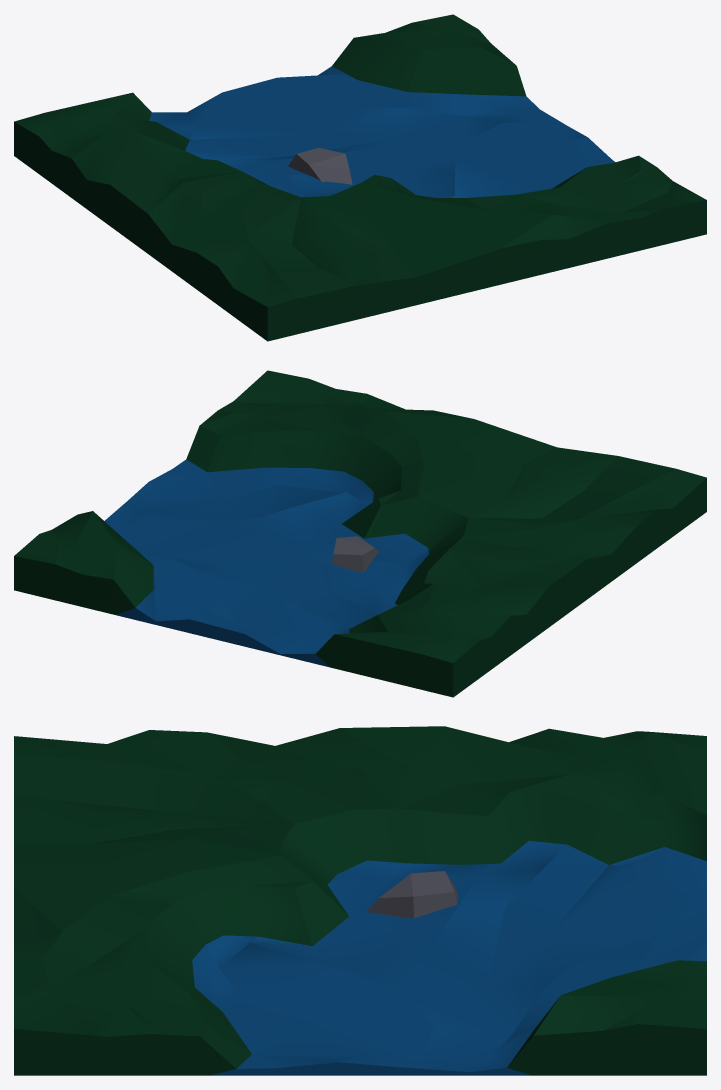
The model's file is Water_Turn_LB.fbx.
3 renders of one model, top to bottom at view 1: azimuth 30°, elevation 25°; view 2: azimuth 150°, elevation 25°; view 3: azimuth 270°, elevation 25°, orthographic. The views are drawn at different scales.
Parts seen in each view (by area): view 1: Water_Turn_LB; view 2: Water_Turn_LB; view 3: Water_Turn_LB.
Boxes of the visible parts, box(x1,y1,x2,y2) form: Water_Turn_LB: box(14, 14, 706, 341); Water_Turn_LB: box(14, 370, 706, 697); Water_Turn_LB: box(14, 726, 706, 1075).
Size of the model in its own units: 147 by 14.83 by 147.
